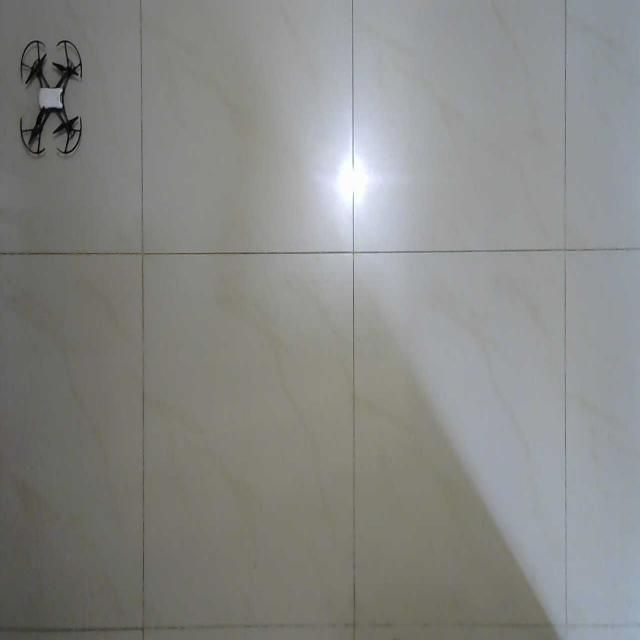drone: (19, 39, 83, 155)
